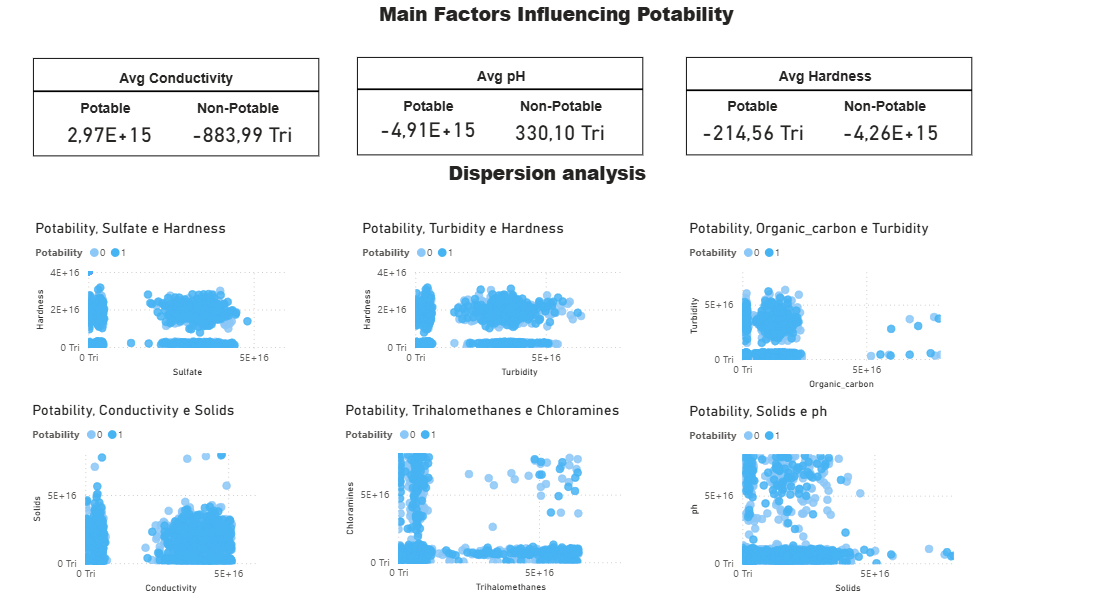

This screenshot's page, from the dashboard's own definition file:
{"tool":"powerbi","page":{"name":"Factors Influencing Potability","canvas":[1280,720],"ordinal":1},"visuals":[{"type":"card","fields":{"Values":["water_potability.Media pH Potavel"]},"box":[422.3,129.7,151.1,43.6],"z":0},{"type":"card","fields":{"Values":["water_potability.Avg Conductivity Non-Potable"]},"box":[202.1,131.9,162.8,51.1],"z":1000},{"type":"card","fields":{"Values":["water_potability.Avg Conductivity Potable"]},"box":[45.7,135.1,171.3,43.6],"z":2000},{"type":"card","fields":{"Values":["water_potability.Avg Hardness Non-Potable"]},"box":[941.5,137.2,175.5,36.2],"z":3000},{"type":"card","fields":{"Values":["water_potability.Avg Hardness Potable"]},"box":[800,131.9,141.5,45.7],"z":4000},{"type":"card","fields":{"Values":["water_potability.Avg pH Non-Potable"]},"box":[583,132.9,133,43.6],"z":5000},{"type":"scatterChart","fields":{"X":["water_potability.Sulfate"],"Series":["water_potability.Potability"],"Y":["water_potability.Hardness"]},"box":[41.5,255.3,316,186.2],"z":6000},{"type":"scatterChart","fields":{"Series":["water_potability.Potability"],"Y":["water_potability.Solids"],"X":["water_potability.Conductivity"]},"box":[38.3,464.9,285.1,225.5],"z":7000},{"type":"textbox","box":[10.6,0,1269.1,59.6],"z":8000},{"type":"textbox","box":[38.3,113.8,177.7,27.7],"z":9000},{"type":"textbox","box":[43.6,70.2,328.7,112.8],"z":10000},{"type":"textbox","box":[56.4,79.8,308.5,34],"z":11000},{"type":"textbox","box":[194.7,113.8,170.2,27.7],"z":12000},{"type":"shape","box":[43.6,33,328.7,150],"z":13000},{"type":"textbox","box":[408.9,111,177.7,27.7],"z":14000},{"type":"textbox","box":[416,69.1,328.7,112.8],"z":15000},{"type":"textbox","box":[427,77,308.5,34],"z":16000},{"type":"textbox","box":[565.3,111,170.2,27.7],"z":17000},{"type":"shape","box":[416,30.8,328.7,150],"z":18000},{"type":"textbox","box":[781.7,111.4,177.7,27.7],"z":19000},{"type":"textbox","box":[794.7,69.1,328.7,112.8],"z":20000},{"type":"textbox","box":[799.8,77.4,308.5,34],"z":21000},{"type":"textbox","box":[938.1,111.4,170.2,27.7],"z":22000},{"type":"shape","box":[794.7,31.9,328.7,150],"z":23000},{"type":"scatterChart","fields":{"X":["water_potability.Turbidity"],"Series":["water_potability.Potability"],"Y":["water_potability.Hardness"]},"box":[417,255.3,327.7,186.2],"z":24000},{"type":"scatterChart","fields":{"X":["water_potability.Organic_carbon"],"Series":["water_potability.Potability"],"Y":["water_potability.Turbidity"]},"box":[792.6,255.3,316,200],"z":25000},{"type":"scatterChart","fields":{"X":["water_potability.Trihalomethanes"],"Series":["water_potability.Potability"],"Y":["water_potability.Chloramines"]},"box":[397.9,464.9,346.8,224.5],"z":26000},{"type":"scatterChart","fields":{"X":["water_potability.Solids"],"Series":["water_potability.Potability"],"Y":["water_potability.ph"]},"box":[792.6,466,330.9,224.5],"z":27000},{"type":"textbox","box":[0,183,1269.1,59.6],"z":27001}]}

Visuals, with their boxes in screenshot pixels (x1, y1, x2, y2), scaled from the page's 1280x720 canvas onto the 1097x611 screenshot:
card - water_potability.Media pH Potavel: box(362, 110, 491, 147)
card - water_potability.Avg Conductivity Non-Potable: box(173, 112, 313, 155)
card - water_potability.Avg Conductivity Potable: box(39, 115, 186, 152)
card - water_potability.Avg Hardness Non-Potable: box(807, 116, 957, 147)
card - water_potability.Avg Hardness Potable: box(686, 112, 807, 151)
card - water_potability.Avg pH Non-Potable: box(500, 113, 614, 150)
scatterChart - water_potability.Sulfate x water_potability.Potability: box(36, 217, 306, 375)
scatterChart - water_potability.Potability x water_potability.Solids: box(33, 395, 277, 586)
textbox: box(9, 0, 1096, 51)
textbox: box(33, 97, 185, 120)
textbox: box(37, 60, 319, 155)
textbox: box(48, 68, 313, 97)
textbox: box(167, 97, 313, 120)
shape: box(37, 28, 319, 155)
textbox: box(350, 94, 503, 118)
textbox: box(357, 59, 638, 154)
textbox: box(366, 65, 630, 94)
textbox: box(484, 94, 630, 118)
shape: box(357, 26, 638, 153)
textbox: box(670, 95, 822, 118)
textbox: box(681, 59, 963, 154)
textbox: box(685, 66, 950, 95)
textbox: box(804, 95, 950, 118)
shape: box(681, 27, 963, 154)
scatterChart - water_potability.Turbidity x water_potability.Potability: box(357, 217, 638, 375)
scatterChart - water_potability.Organic_carbon x water_potability.Potability: box(679, 217, 950, 386)
scatterChart - water_potability.Trihalomethanes x water_potability.Potability: box(341, 395, 638, 585)
scatterChart - water_potability.Solids x water_potability.Potability: box(679, 395, 963, 586)
textbox: box(0, 155, 1088, 206)
